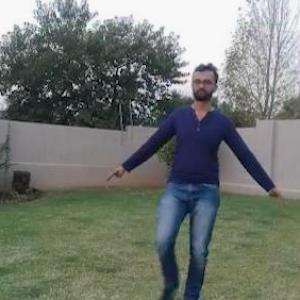land: (89, 62, 284, 297)
